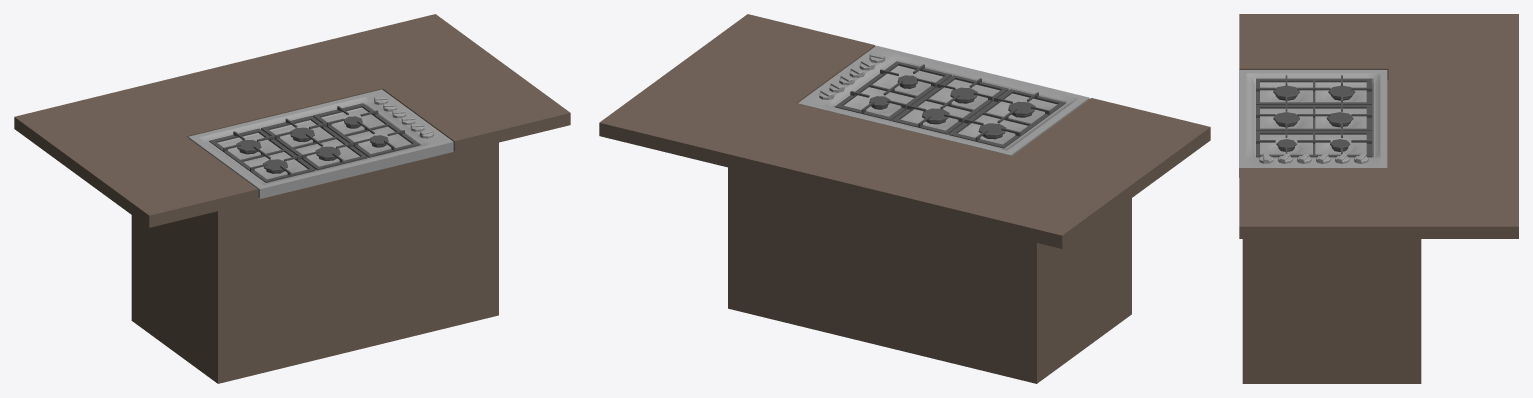
File: Stovetop_Geo.fbx
The picture shows the model from 3 angles, left to right: view 1: azimuth 30°, elevation 25°; view 2: azimuth 150°, elevation 25°; view 3: azimuth 270°, elevation 25°; orthographic projection. The views are drawn at different scales.
Visible parts, largest first — view 1: pCube1, Silver, pCylinder6, pPlane3, pPlane4, pPlane2; view 2: pCube1, Silver, pCylinder6, pPlane3, pPlane4, pPlane2; view 3: pCube1, Silver, pCylinder6, pPlane2, pPlane3, pPlane4.
Boxes of the visible parts, box(x1,y1,x2,y2) form: pCube1: box(14, 14, 570, 383); Silver: box(188, 89, 453, 198); pCylinder6: box(236, 116, 388, 173); pPlane3: box(261, 115, 367, 170); pPlane4: box(312, 103, 419, 157); pPlane2: box(209, 128, 315, 182); pCube1: box(599, 14, 1210, 383); Silver: box(798, 45, 1089, 155); pCylinder6: box(869, 75, 1035, 139); pPlane3: box(891, 75, 1008, 134); pPlane4: box(834, 61, 951, 120); pPlane2: box(948, 89, 1065, 148); pCube1: box(1239, 14, 1518, 383); Silver: box(1239, 70, 1387, 177); pCylinder6: box(1273, 85, 1355, 151); pPlane2: box(1256, 75, 1371, 104); pPlane3: box(1256, 101, 1371, 130); pPlane4: box(1256, 127, 1371, 157).
Size of the model in its own units: 225 by 97.31 by 125.
